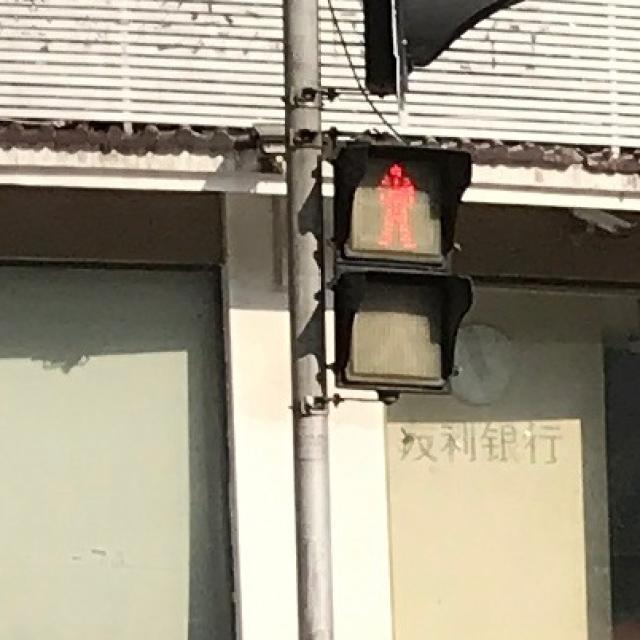red_light: (352, 146, 438, 258)
